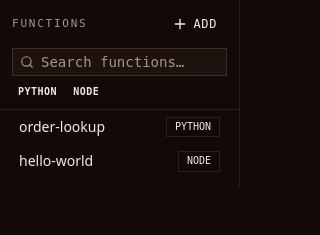
Scenario: clears the search and re-enables every language from the empty-match state
The width and height of the screenshot is (320, 235).
Click the button "python".
click(38, 92)  # box [12,82,63,101]
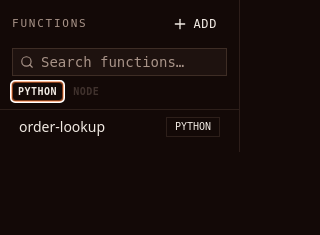
Type "hello" into the field with placeholder "Search functions…".
click(120, 62); type("hello")  # box [12,48,227,76]
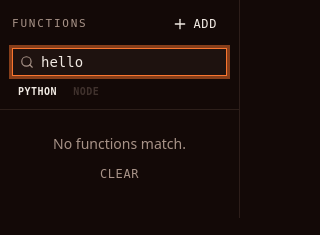
Check: the list item "No functions match." is shown, box [53,134,186,153]
Click the button "Clear".
click(119, 174)  # box [92,162,147,186]
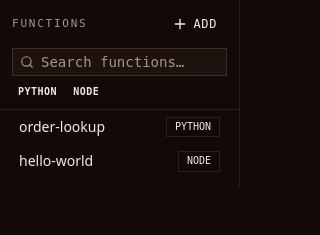
Check: the text "order-lookup" is shown, box [19,117,105,137]
Check: the text "hello-world" is shown, box [19,151,93,171]
